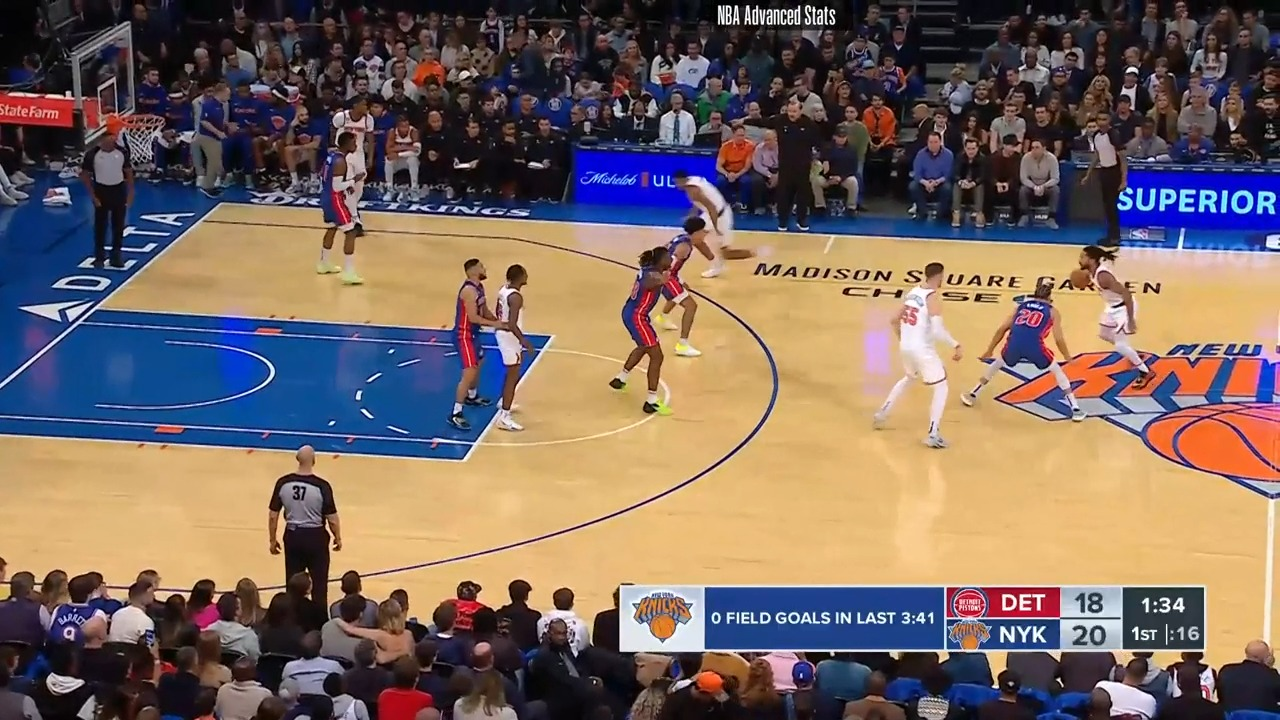net: (105, 109, 174, 167)
player: (868, 260, 963, 455), (959, 278, 1085, 424), (1056, 246, 1162, 396), (450, 261, 529, 444), (611, 242, 688, 418), (483, 260, 548, 438), (670, 171, 762, 282), (659, 215, 729, 360), (318, 134, 367, 286), (332, 96, 374, 231)
referee: (262, 441, 344, 593), (85, 127, 139, 275), (1083, 113, 1133, 247)
